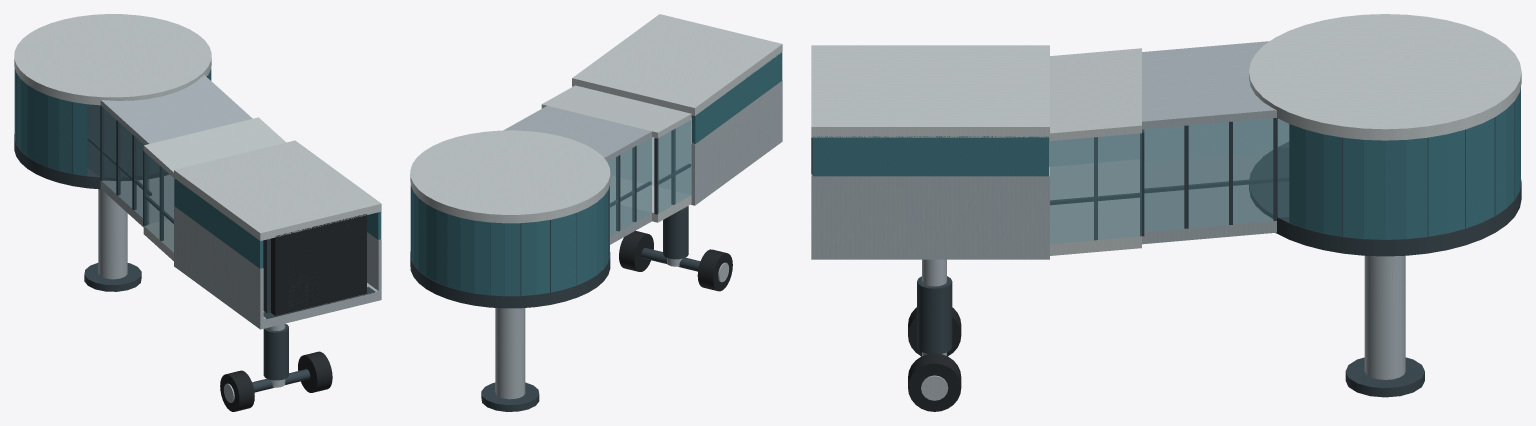
File: jet_bridge.glb
3 renders of one model, left to right at view 1: azimuth 30°, elevation 25°; view 2: azimuth 150°, elevation 25°; view 3: azimuth 270°, elevation 25°, orthographic. The views are drawn at different scales.
Visible parts, largest first — view 1: jet_bridge; view 2: jet_bridge; view 3: jet_bridge.
Boxes of the visible parts, x1=… form: jet_bridge: x1=14, y1=14, x2=381, y2=411; jet_bridge: x1=410, y1=14, x2=782, y2=411; jet_bridge: x1=811, y1=14, x2=1521, y2=411.
Size of the model in its own units: 4.8 by 6 by 12.5.
Materials: 8 (8 with a texture image).
